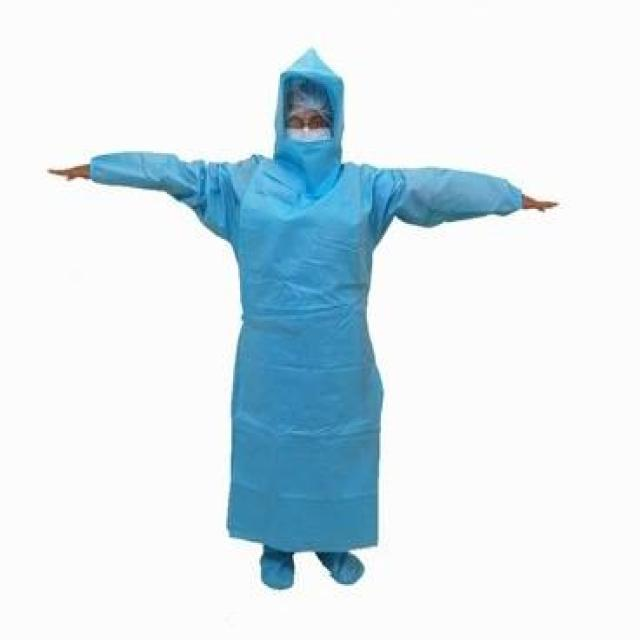Coverall: (87, 41, 523, 593)
Mask: (282, 125, 334, 146)
